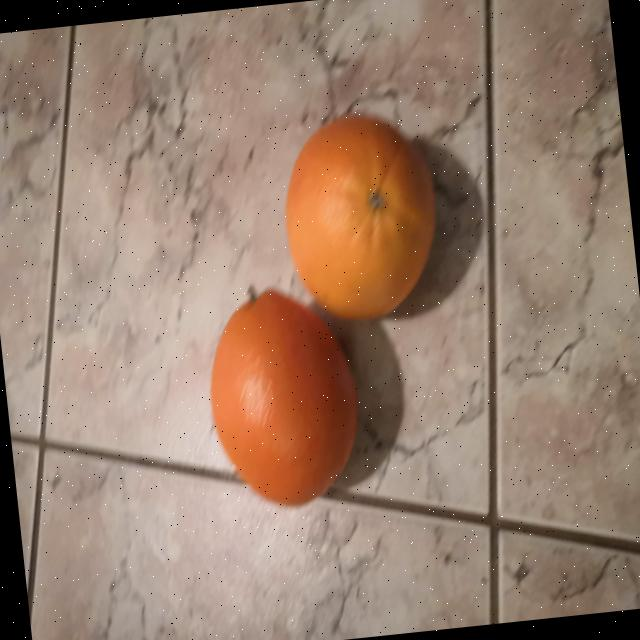orange: (210, 288, 357, 506), (285, 114, 435, 318)
